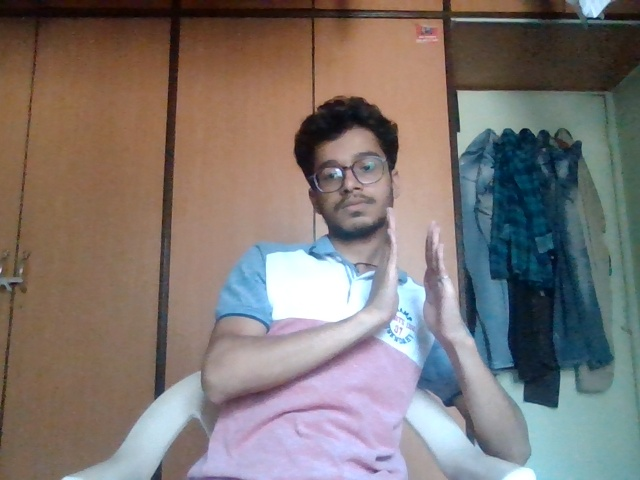morning: (360, 204, 469, 352)
